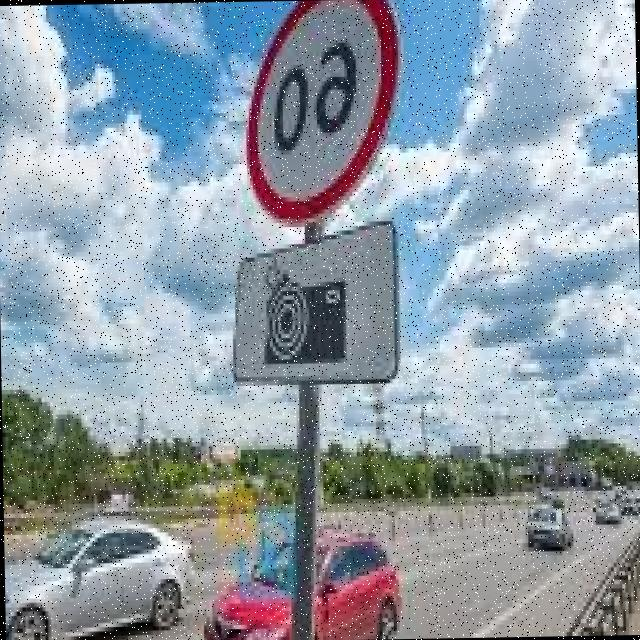speed_limit_60: (232, 0, 406, 227)
